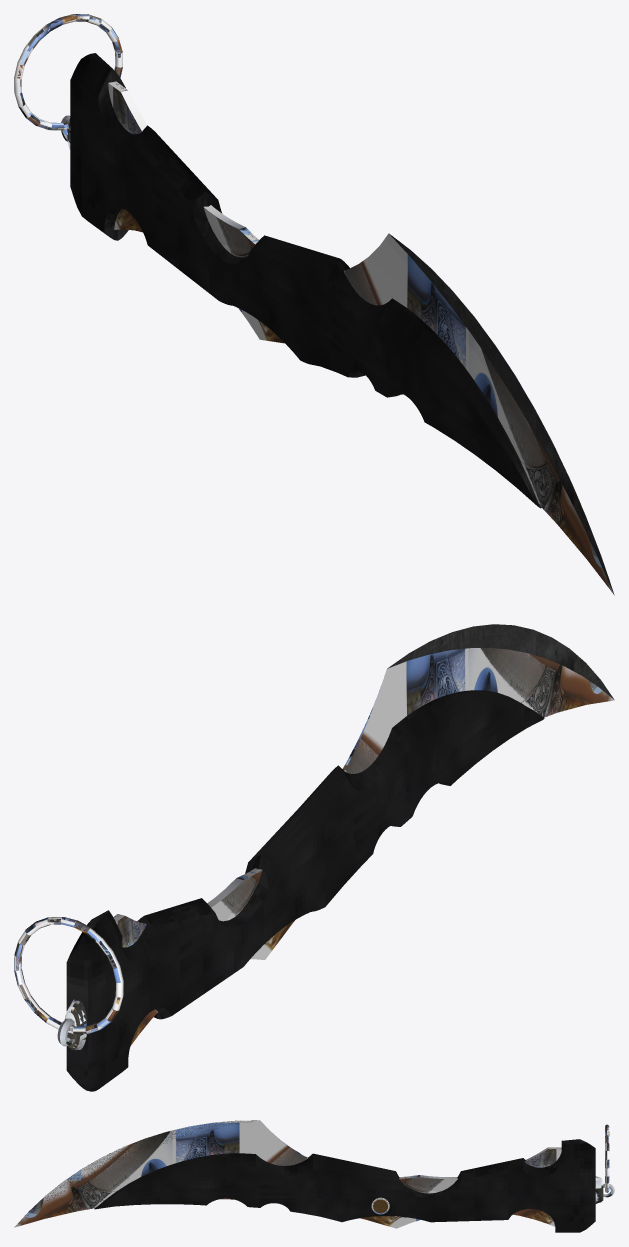
Rendered from model_align.obj.
3 views of the same model, one above another, from view 1: azimuth 30°, elevation 25°; view 2: azimuth 150°, elevation 25°; view 3: azimuth 270°, elevation 25° (orthographic). The views are drawn at different scales.
Parts seen in each view (by area): view 1: mesh4_mesh4-geometry, mesh5_mesh5-geometry, mesh1_mesh1-geometry, mesh6_mesh6-geometry, mesh3_mesh3-geometry; view 2: mesh4_mesh4-geometry, mesh5_mesh5-geometry, mesh1_mesh1-geometry, mesh3_mesh3-geometry, mesh6_mesh6-geometry, mesh2_mesh2-geometry, mesh9_mesh9-geometry; view 3: mesh4_mesh4-geometry, mesh1_mesh1-geometry, mesh5_mesh5-geometry, mesh2_mesh2-geometry, mesh6_mesh6-geometry, mesh10_mesh10-geometry, mesh9_mesh9-geometry.
Boxes of the visible parts, bbox=[...] form: mesh4_mesh4-geometry: bbox=[82, 53, 541, 508]; mesh5_mesh5-geometry: bbox=[108, 82, 614, 595]; mesh1_mesh1-geometry: bbox=[112, 81, 614, 595]; mesh6_mesh6-geometry: bbox=[14, 14, 122, 130]; mesh3_mesh3-geometry: bbox=[70, 53, 95, 215]; mesh4_mesh4-geometry: bbox=[92, 690, 544, 1086]; mesh5_mesh5-geometry: bbox=[115, 624, 601, 1045]; mesh1_mesh1-geometry: bbox=[113, 624, 614, 919]; mesh3_mesh3-geometry: bbox=[77, 919, 105, 1091]; mesh6_mesh6-geometry: bbox=[14, 917, 123, 1033]; mesh2_mesh2-geometry: bbox=[66, 920, 91, 1089]; mesh9_mesh9-geometry: bbox=[64, 999, 86, 1050]; mesh4_mesh4-geometry: bbox=[94, 1139, 579, 1232]; mesh1_mesh1-geometry: bbox=[29, 1120, 561, 1228]; mesh5_mesh5-geometry: bbox=[14, 1120, 561, 1227]; mesh2_mesh2-geometry: bbox=[580, 1139, 595, 1232]; mesh6_mesh6-geometry: bbox=[605, 1124, 609, 1192]; mesh10_mesh10-geometry: bbox=[371, 1197, 389, 1214]; mesh9_mesh9-geometry: bbox=[595, 1176, 603, 1203].
Bounding box in the file's own units: 0.0267 × 0.0485 × 0.2356.
